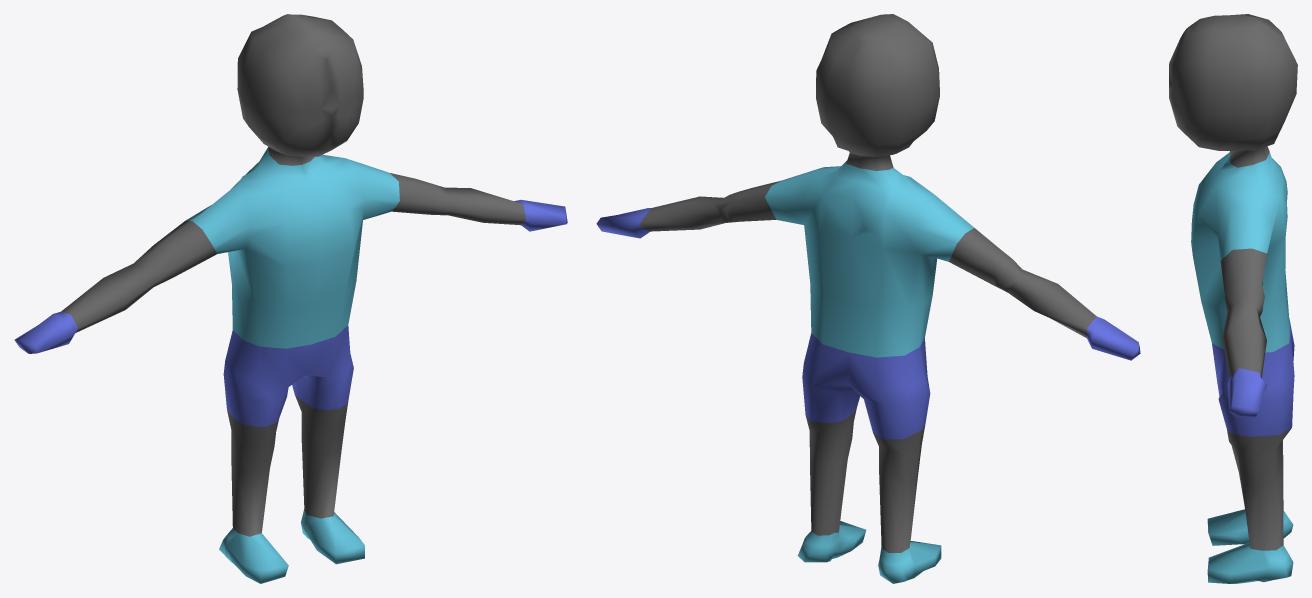
The model's file is Character1_version2 1.fbx.
3 views of the same model, side by side, from view 1: azimuth 30°, elevation 25°; view 2: azimuth 150°, elevation 25°; view 3: azimuth 270°, elevation 25° (orthographic).
Parts seen in each view (by area): view 1: Character1; view 2: Character1; view 3: Character1.
Part boxes in pixels (x1,y1,x2,y2): Character1: (14, 14, 567, 583); Character1: (596, 14, 1140, 583); Character1: (1169, 14, 1297, 583).
Bounding box in the file's own units: 1.24 × 1.3 × 0.2662.
